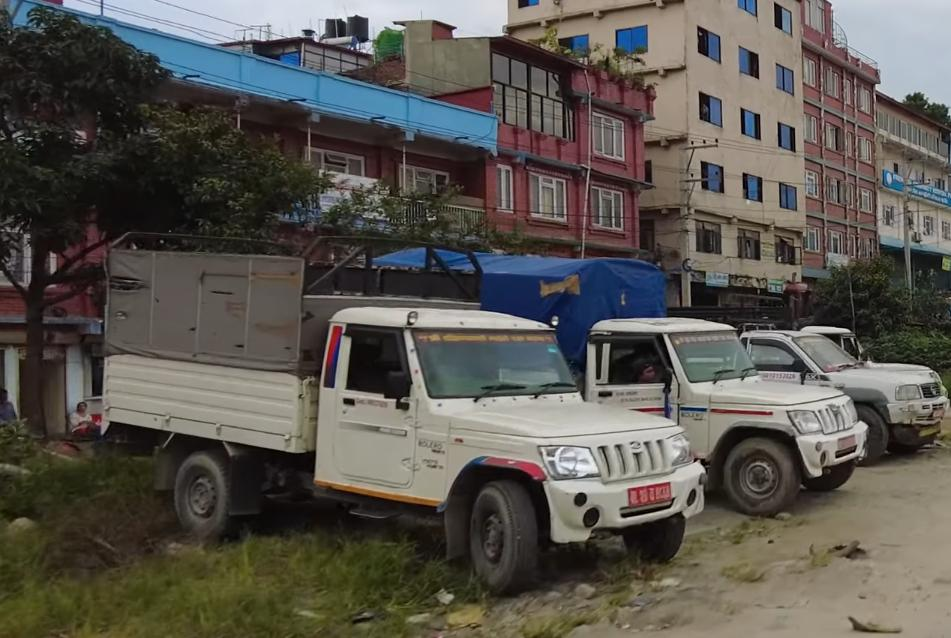SUV: (753, 296, 948, 472)
transport_vehicle: (93, 224, 704, 593), (448, 217, 860, 534)
